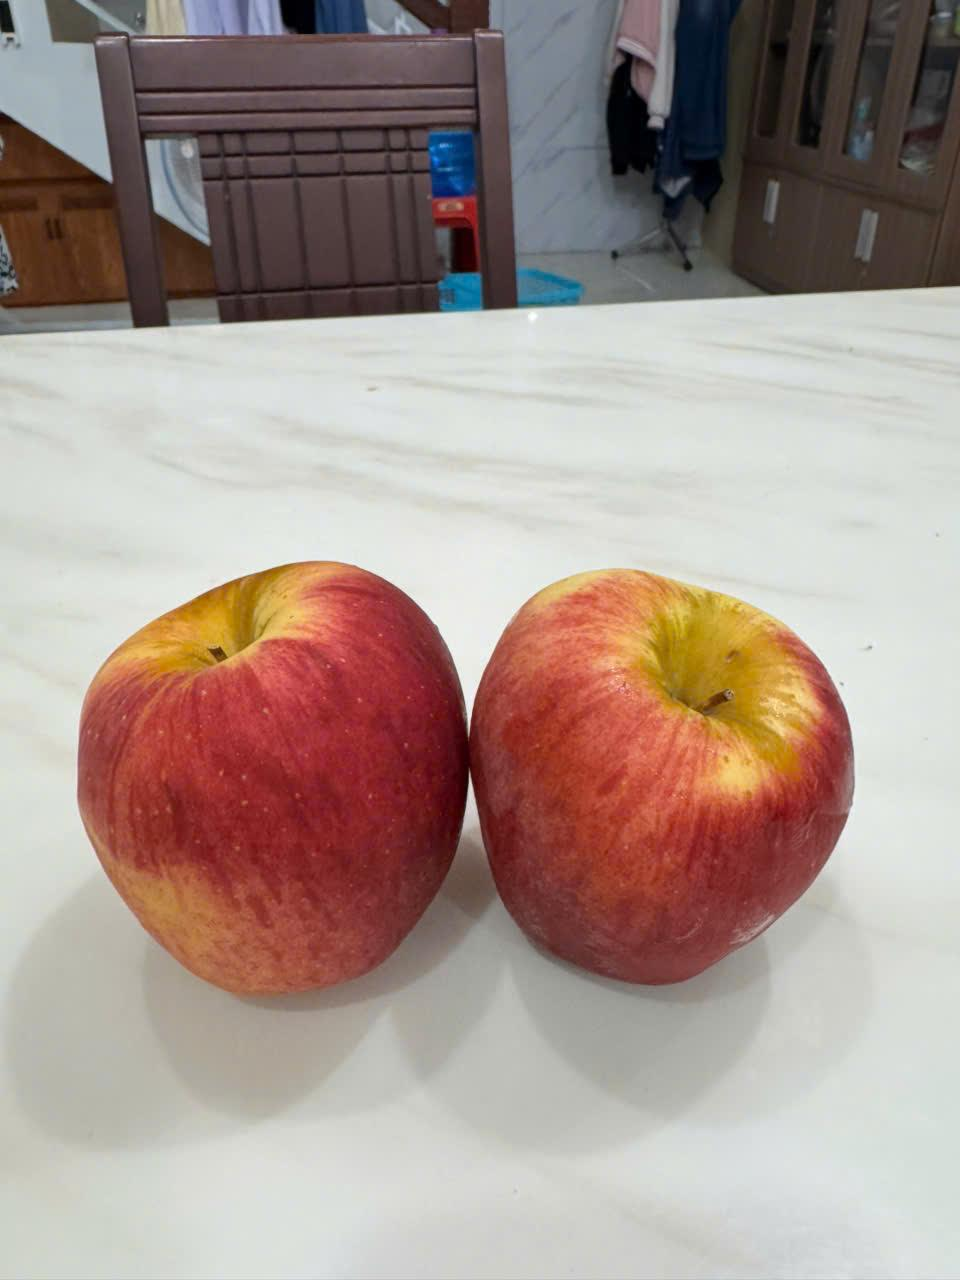apple: (52, 532, 469, 1051), (472, 542, 904, 1028)
